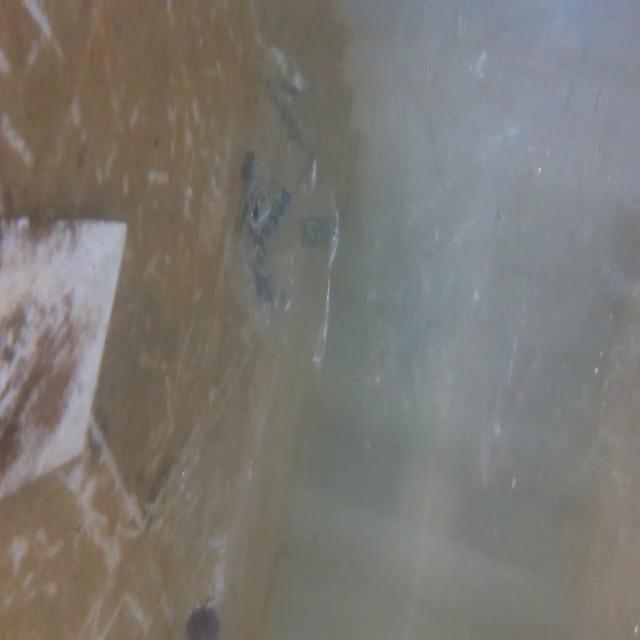plastic bags: (234, 49, 345, 369)
